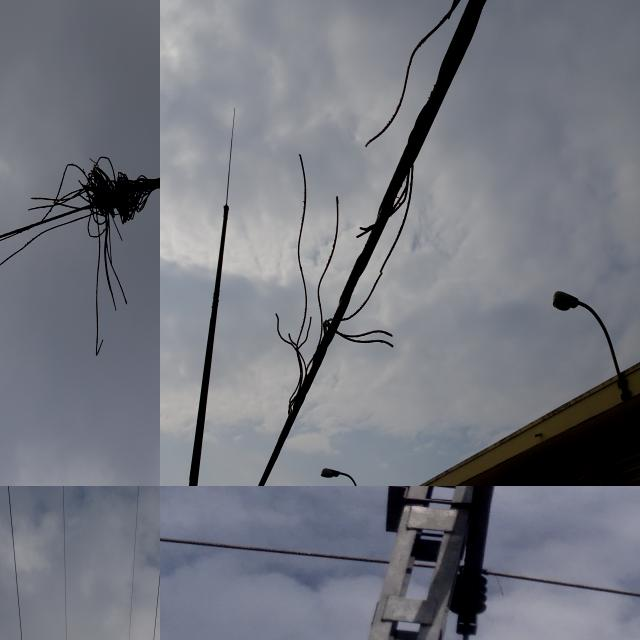电缆破损: (268, 9, 480, 430), (0, 138, 160, 271)
